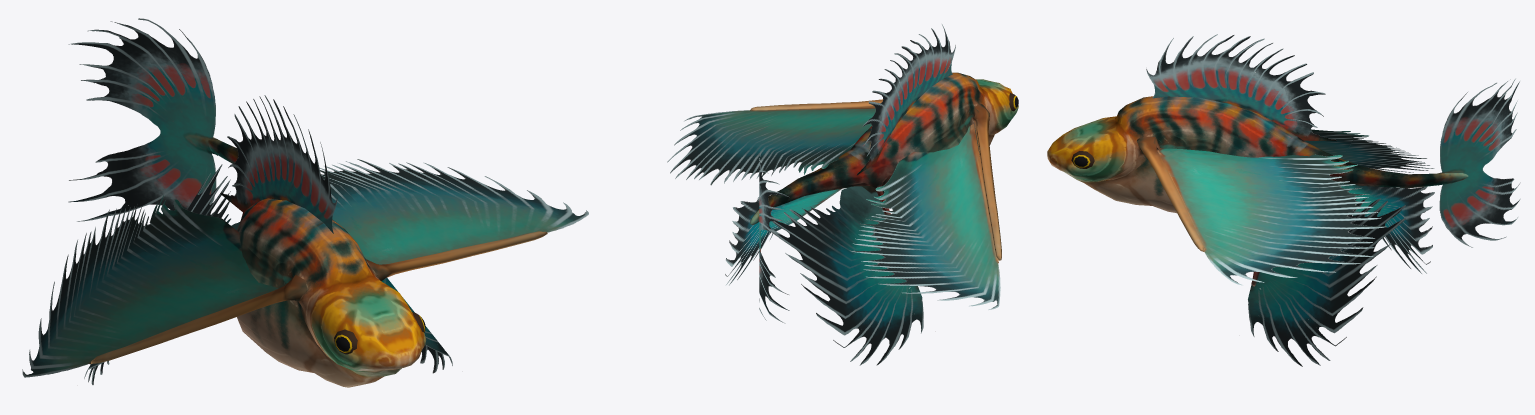
File: fish_000025.obj
3 views of the same model, side by side, from view 1: azimuth 30°, elevation 25°; view 2: azimuth 150°, elevation 25°; view 3: azimuth 270°, elevation 25° (orthographic). The views are drawn at different scales.
Visible parts, largest first — view 1: flyingFish_low_StingrayPBS1_0; view 2: flyingFish_low_StingrayPBS1_0; view 3: flyingFish_low_StingrayPBS1_0.
Part boxes in pixels (x1,y1,x2,y2): flyingFish_low_StingrayPBS1_0: [22, 18, 588, 387]; flyingFish_low_StingrayPBS1_0: [667, 24, 1018, 365]; flyingFish_low_StingrayPBS1_0: [1047, 34, 1520, 366].
Size of the model in its own units: 17.74 by 13.53 by 18.6.
Materials: 1 (1 with a texture image).
